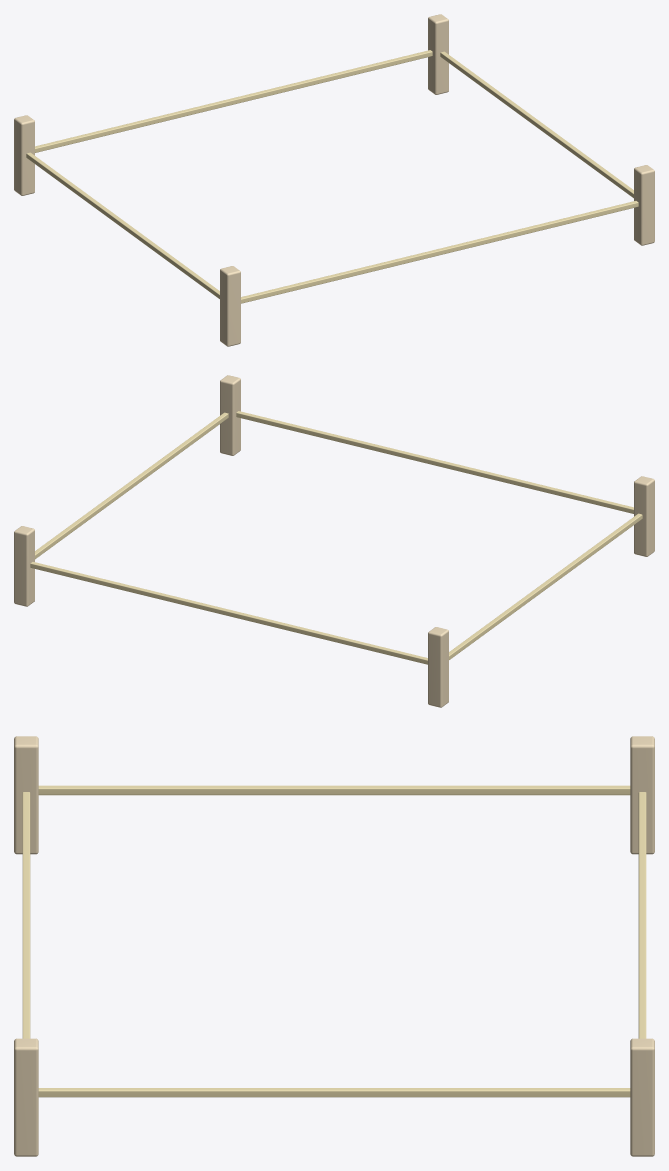
File: family-home-planned.glb
3 renders of one model, top to bottom at view 1: azimuth 30°, elevation 25°; view 2: azimuth 150°, elevation 25°; view 3: azimuth 270°, elevation 25°, orthographic. The views are drawn at different scales.
Parts seen in each view (by area): view 1: Setting-out cord.004, Setting-out cord.005, Setting-out cord.007, Setting-out cord.006, Survey peg.004, Survey peg.006, Survey peg.005, Survey peg.007; view 2: Setting-out cord.004, Setting-out cord.005, Setting-out cord.007, Setting-out cord.006, Survey peg.005, Survey peg.007, Survey peg.004, Survey peg.006; view 3: Setting-out cord.006, Setting-out cord.007, Survey peg.006, Survey peg.007, Survey peg.004, Survey peg.005, Setting-out cord.004, Setting-out cord.005.
Part boxes in pixels (<box>): Setting-out cord.004: <box>241,201,638,303</box>; Setting-out cord.005: <box>35,50,432,152</box>; Setting-out cord.007: <box>440,51,633,198</box>; Setting-out cord.006: <box>26,152,219,298</box>; Survey peg.004: <box>220,266,240,346</box>; Survey peg.006: <box>634,165,654,245</box>; Survey peg.005: <box>14,115,34,195</box>; Survey peg.007: <box>428,14,448,94</box>; Setting-out cord.004: <box>236,411,633,513</box>; Setting-out cord.005: <box>30,562,427,664</box>; Setting-out cord.007: <box>35,412,228,559</box>; Setting-out cord.006: <box>449,513,642,659</box>; Survey peg.005: <box>428,627,448,707</box>; Survey peg.007: <box>14,526,34,606</box>; Survey peg.004: <box>634,476,654,556</box>; Survey peg.006: <box>220,375,240,455</box>; Setting-out cord.006: <box>38,785,630,795</box>; Setting-out cord.007: <box>38,1088,630,1097</box>; Survey peg.006: <box>14,1038,38,1156</box>; Survey peg.007: <box>630,1038,654,1156</box>; Survey peg.004: <box>14,736,38,854</box>; Survey peg.005: <box>630,736,654,854</box>; Setting-out cord.004: <box>22,792,30,1038</box>; Setting-out cord.005: <box>638,792,646,1038</box>.
Size of the model in its own units: 2.69 by 0.44 by 2.33.
